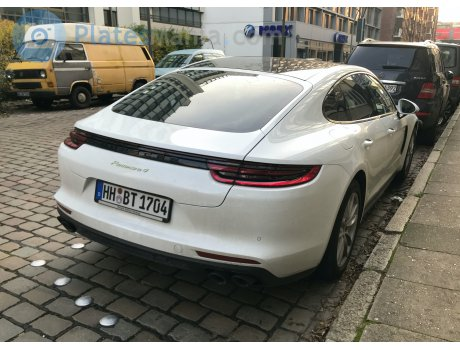License Plates: (95, 183, 165, 212)
